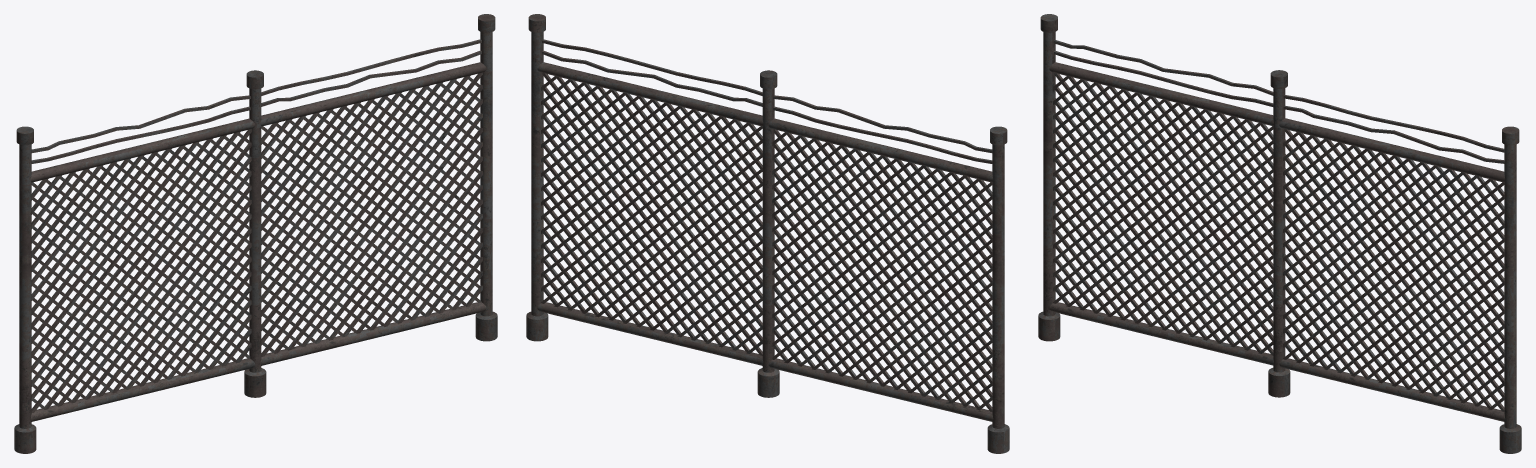
The model's file is WIRE FENCE.fbx.
3 renders of one model, left to right at view 1: azimuth 30°, elevation 25°; view 2: azimuth 150°, elevation 25°; view 3: azimuth 330°, elevation 25°, orthographic.
Visible parts, largest first — view 1: WIRE FENCE; view 2: WIRE FENCE; view 3: WIRE FENCE.
Boxes of the visible parts, <box> form: WIRE FENCE: <box>14,14,497,453</box>; WIRE FENCE: <box>526,14,1009,453</box>; WIRE FENCE: <box>1038,14,1521,453</box>.
Bounding box in the file's own units: 428 × 272 × 16.88.
